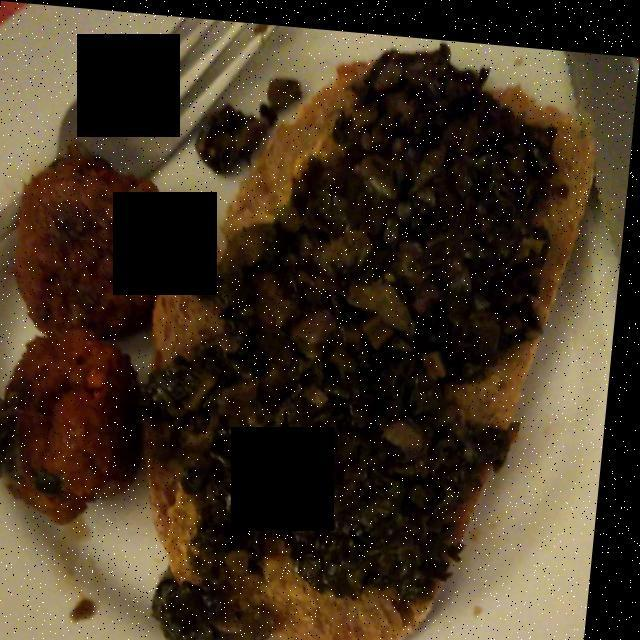bread: (145, 35, 609, 640)
cabbage: (152, 38, 566, 640)
falafel-balls: (0, 141, 194, 520)
